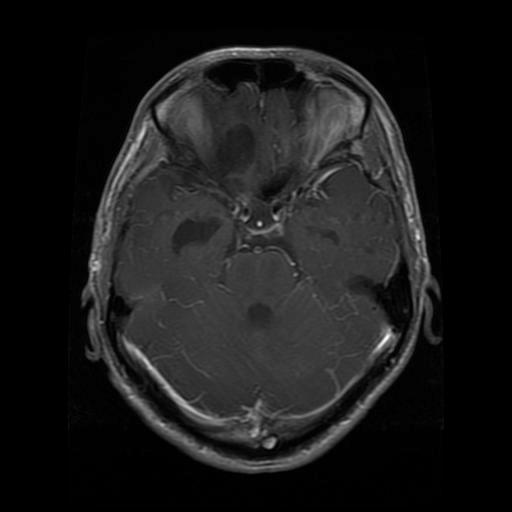Tumour-Glioma: (163, 201, 234, 263)
